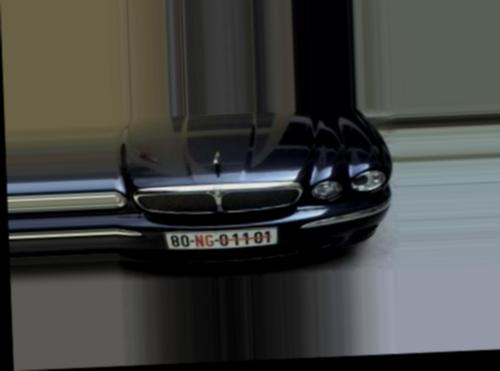License_Plate: (164, 225, 282, 256)
